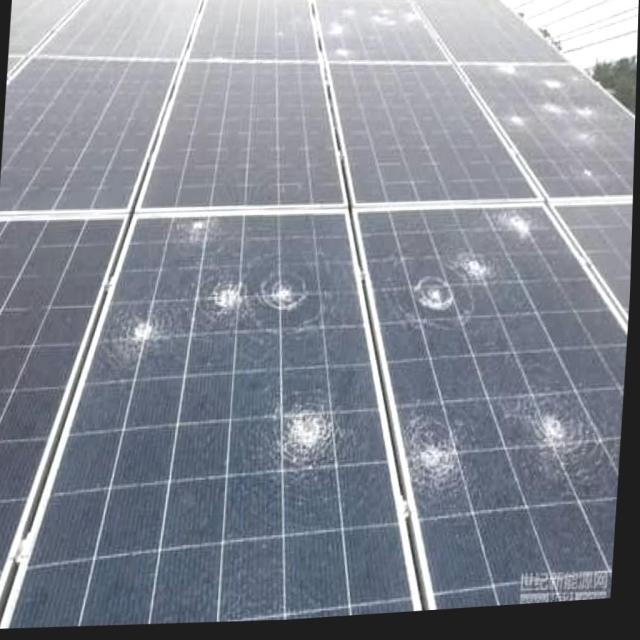cracked: (23, 213, 388, 629), (358, 206, 624, 610), (468, 56, 638, 197), (316, 1, 449, 68)
